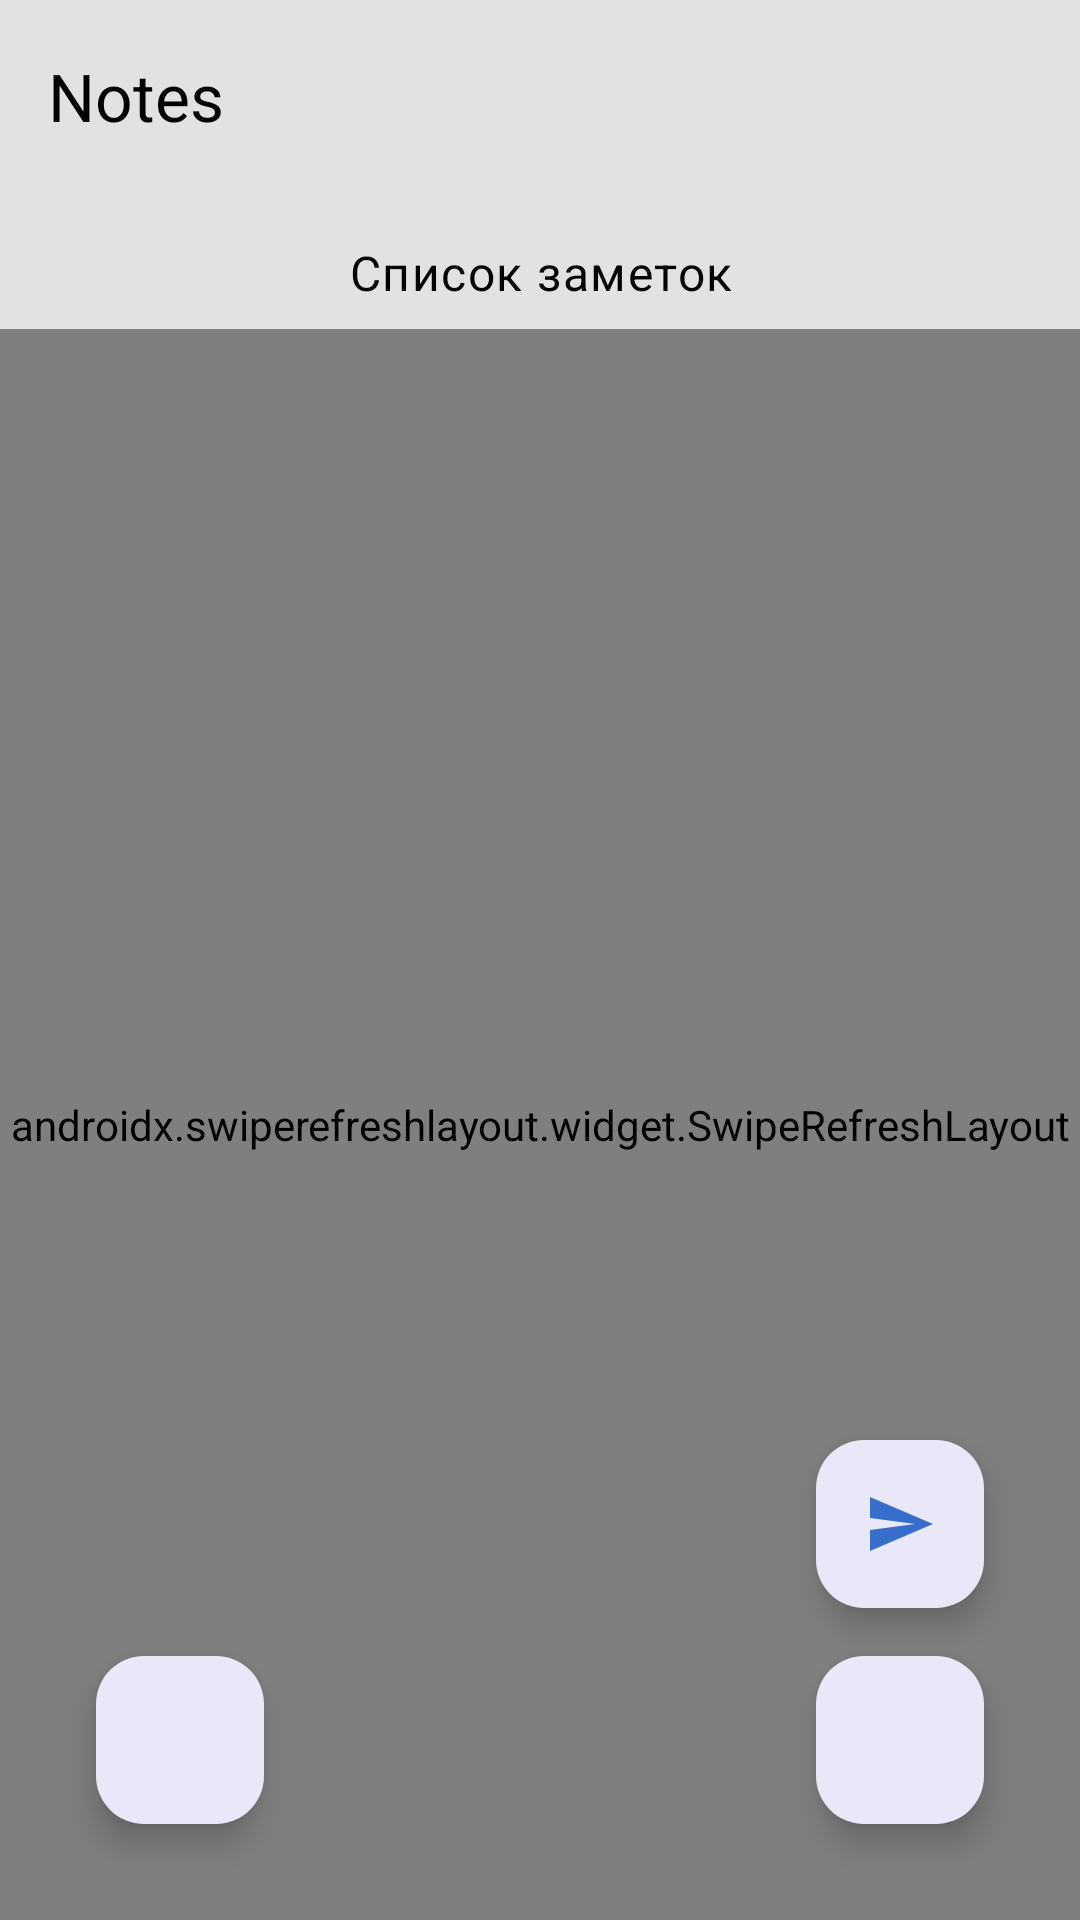

Named icons in this screenshot (1080 x 1920) and their bounding boxes, (x1, y1, x2, y2):
send: (816, 1440, 984, 1608)
